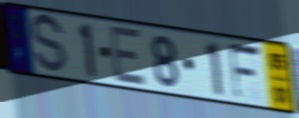1: (77, 20, 98, 80), (204, 39, 225, 98)
8: (151, 34, 181, 89)
E: (109, 23, 148, 88)
F: (227, 41, 264, 103)
S: (30, 12, 68, 77)
